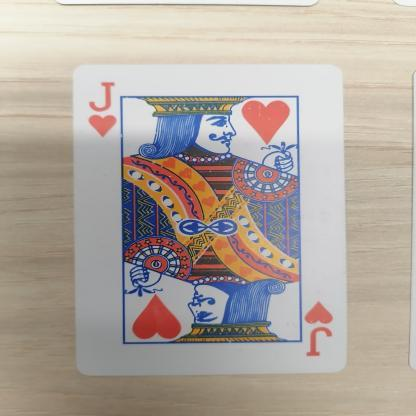JH: (82, 74, 128, 146), (303, 301, 339, 363)
